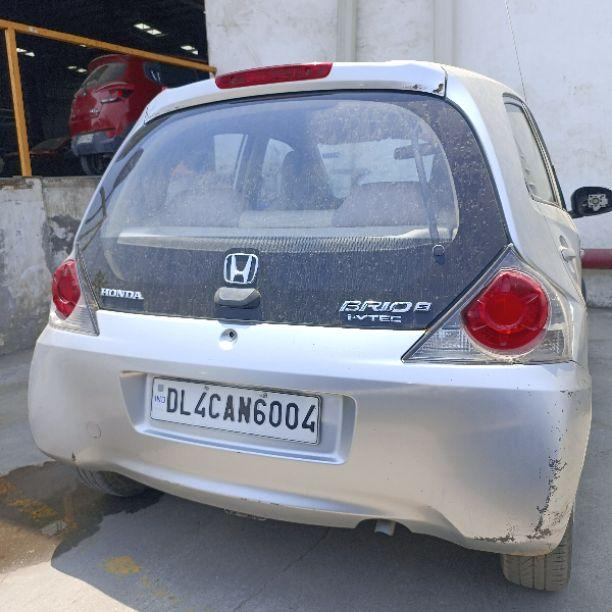license_plate: (147, 375, 322, 445)
